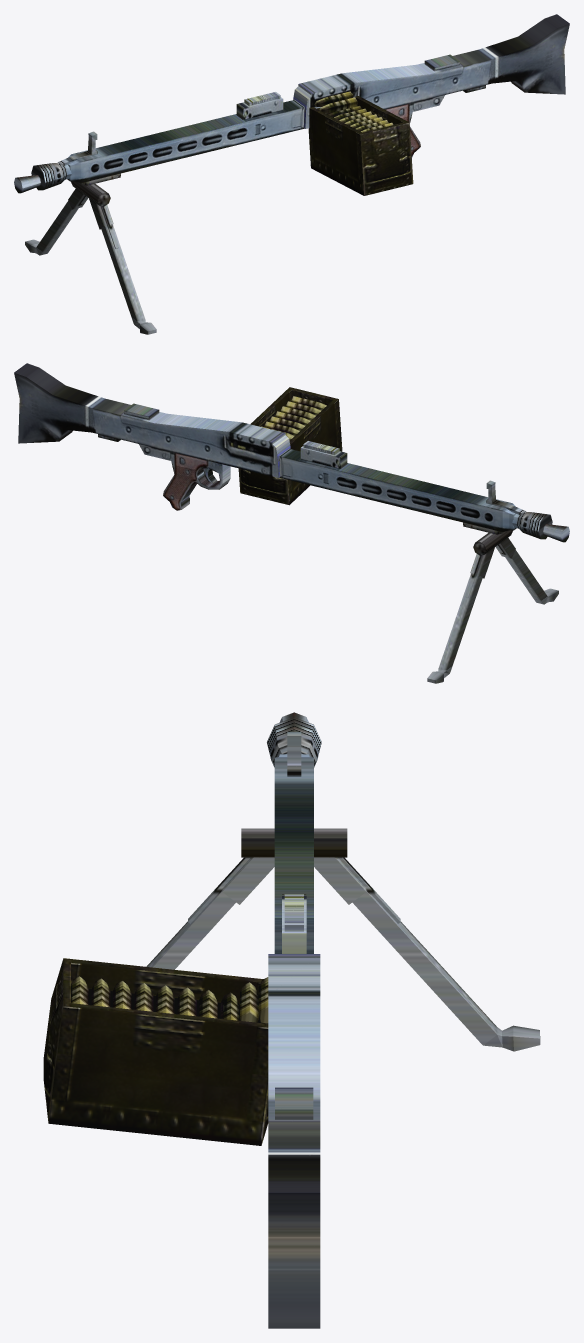
3 renders of one model, top to bottom at view 1: azimuth 30°, elevation 25°; view 2: azimuth 150°, elevation 25°; view 3: azimuth 270°, elevation 25°, orthographic. The views are drawn at different scales.
Visible parts, largest first — view 1: mg42.bmp; view 2: mg42.bmp; view 3: mg42.bmp.
Part boxes in pixels (x1,y1,x2,y2): mg42.bmp: [14, 14, 569, 334]; mg42.bmp: [14, 363, 569, 683]; mg42.bmp: [43, 712, 540, 1328].
Bounding box in the file's own units: 94.9 × 26.19 × 37.41.
1 material, 1 textured.
